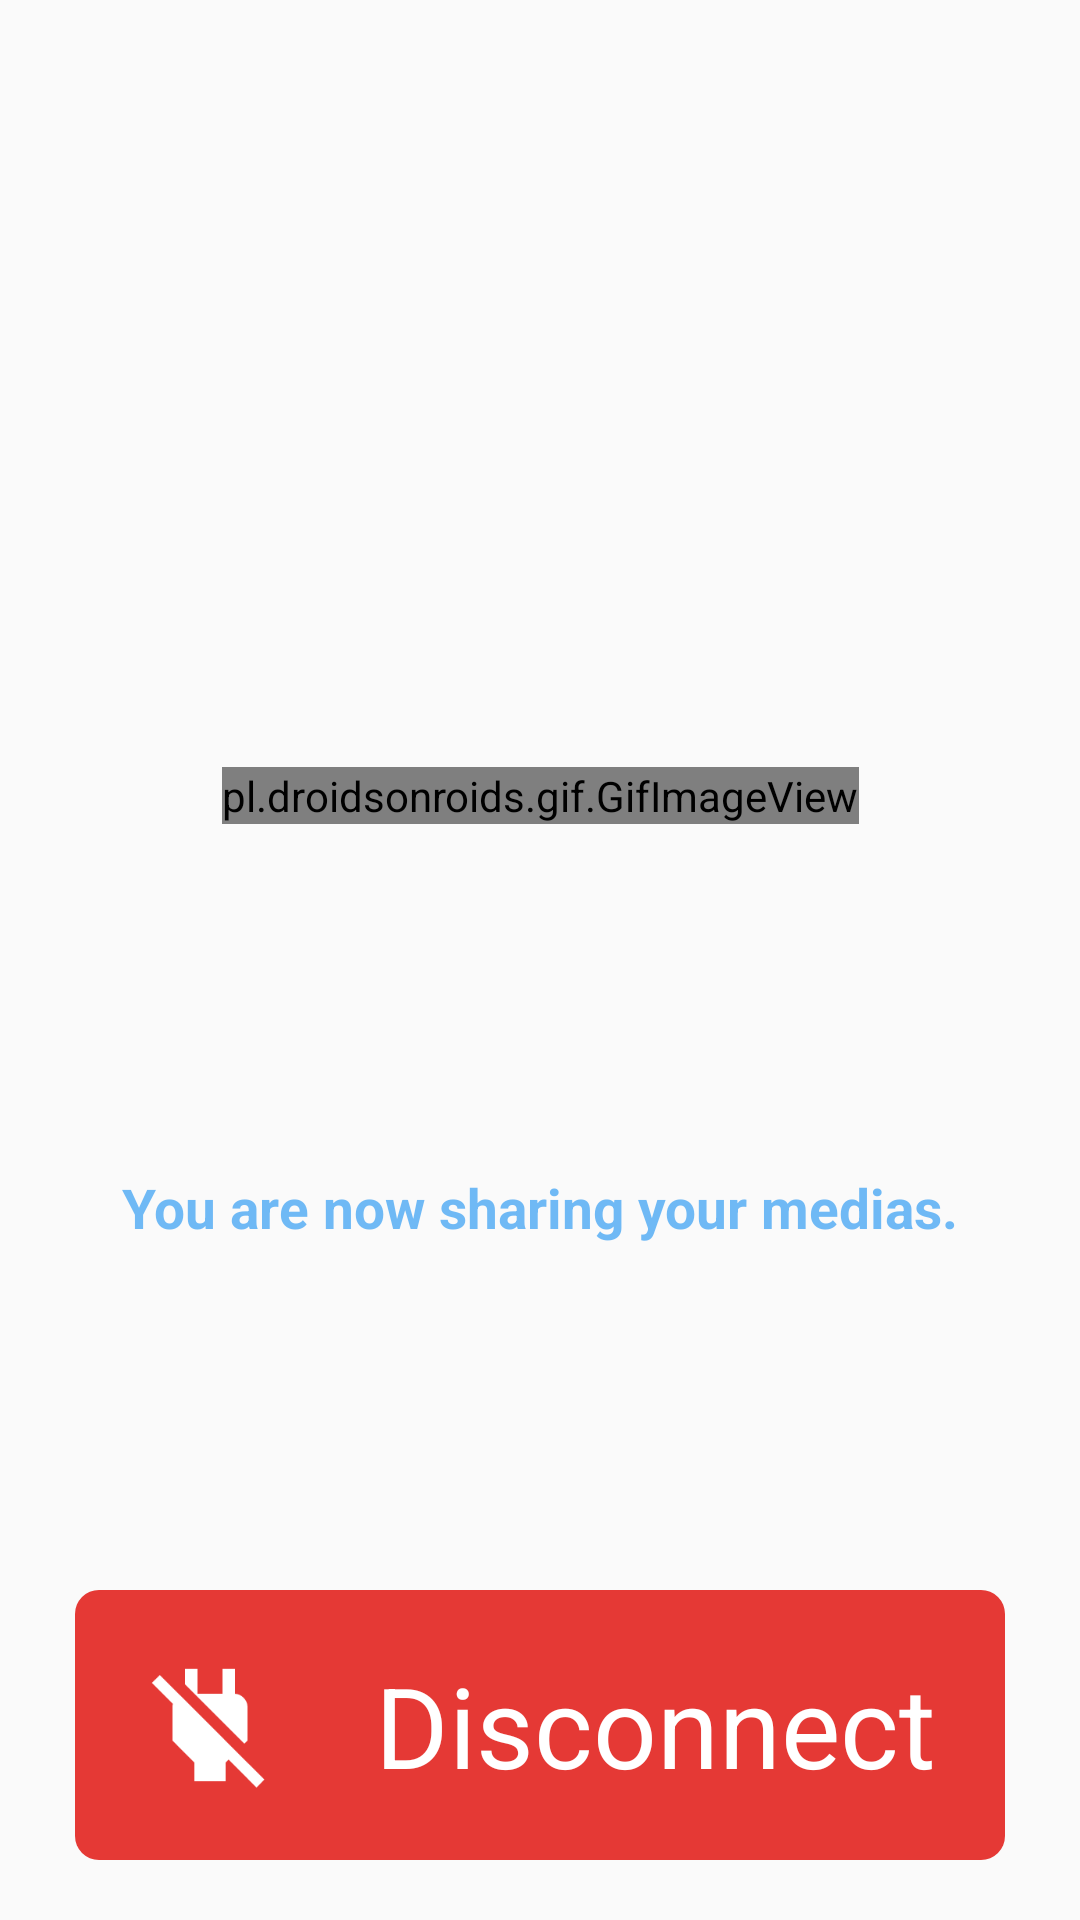

Screen size 1080x1920. Icon name, then its box in pixels as (left=x1, top=y1, right=x2, bottom=y2):
power off: (left=152, top=1668, right=265, bottom=1788)
